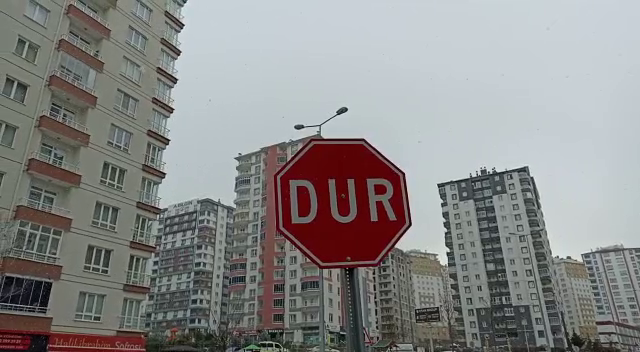stop: (271, 135, 415, 272)
